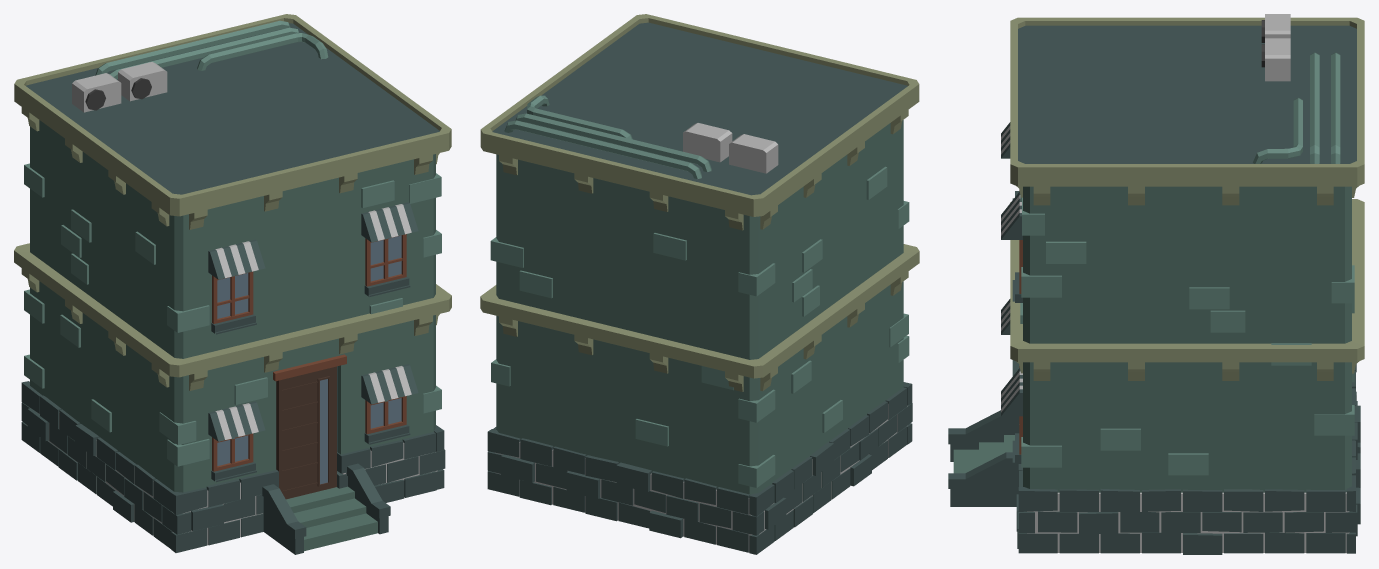
The model's file is 2Story_Mat.glb.
3 views of the same model, side by side, from view 1: azimuth 30°, elevation 25°; view 2: azimuth 150°, elevation 25°; view 3: azimuth 270°, elevation 25° (orthographic). The views are drawn at different scales.
Size of the model in its own units: 2.16 by 2.75 by 2.53.
